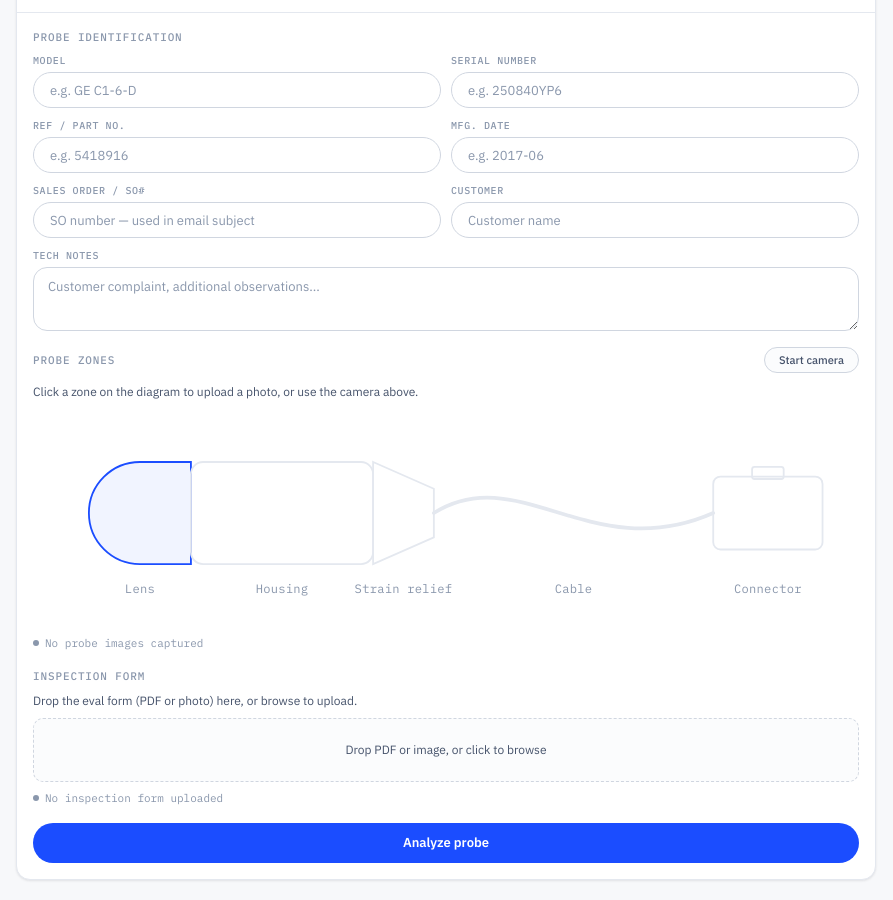
Scenario: intake → quote flow › shows the analyze error and stays on the intake view
The width and height of the screenshot is (893, 900).
(page scrolled)
Click the button "Analyze probe": (446, 843) [33,823,859,863]
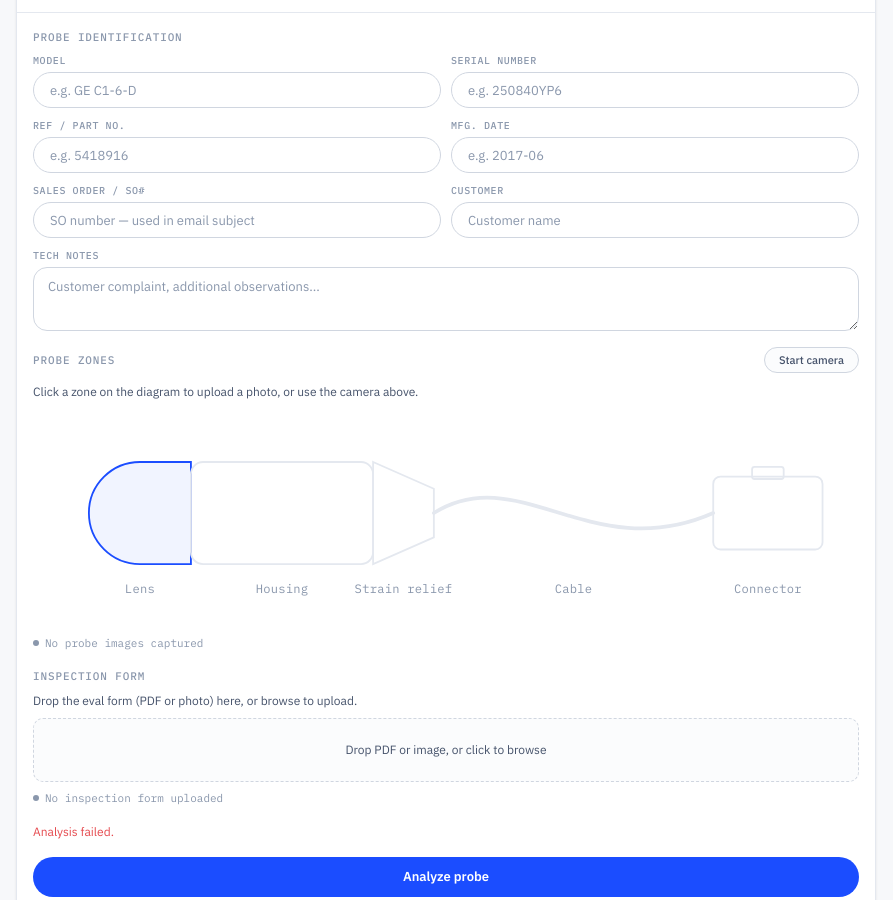
Expected: the button "Analyze probe" is shown, [33,857,859,897]
Now the message shows "Analysis failed", box [33,824,114,839]
